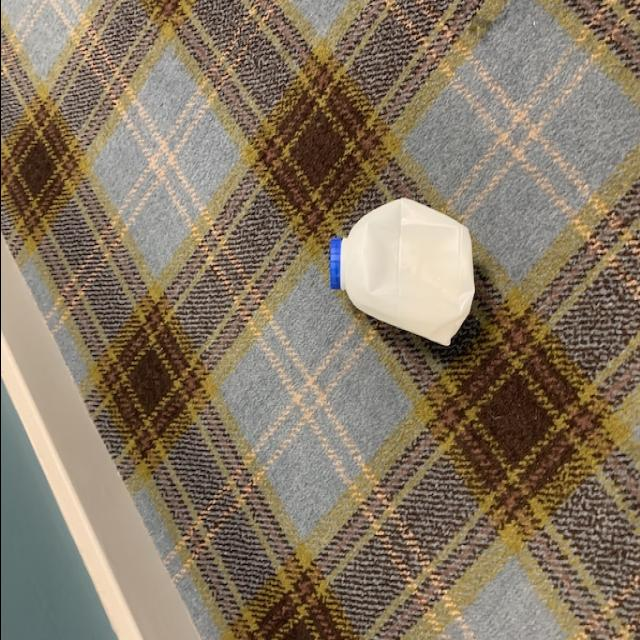HDPEM: (314, 196, 482, 350)
